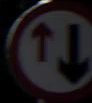Two way: (19, 14, 85, 80)
